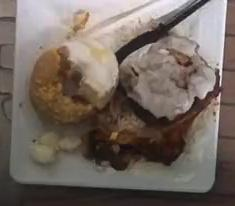donut: (120, 34, 216, 120), (29, 46, 91, 122), (65, 39, 118, 108)
